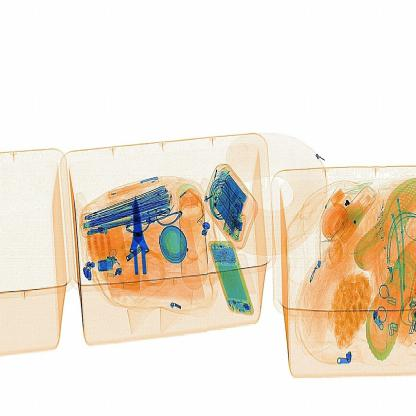gun: (107, 185, 171, 299)
